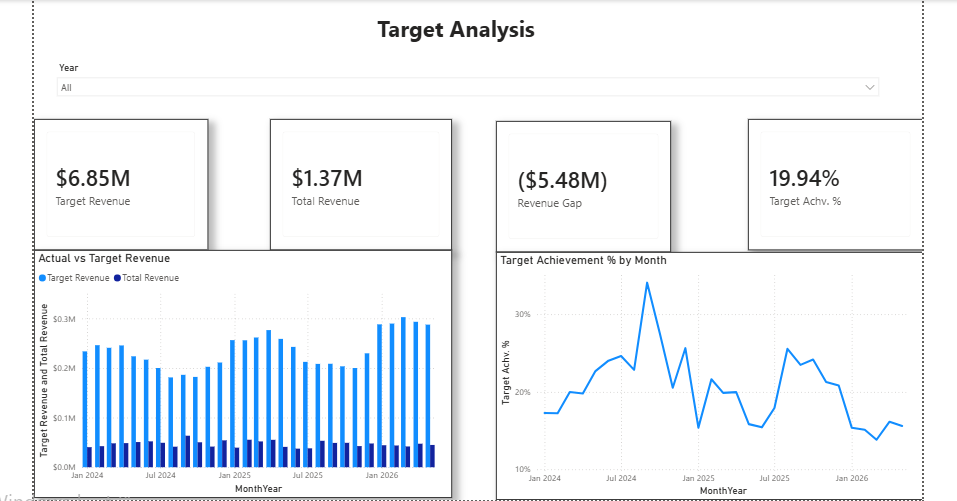

What the dashboard file says about the page in this screenshot:
{"tool":"powerbi","page":{"name":"Target Analysis","canvas":[1280,720],"ordinal":3},"visuals":[{"type":"slicer","fields":{"Values":["Calendar.Year"]},"box":[23,83.5,1203.8,72],"z":0},{"type":"cardVisual","fields":{"Data":["Measures Table.Target Revenue"]},"box":[0,171.4,250.6,188.6],"z":1},{"type":"cardVisual","fields":{"Data":["Measures Table.Total Revenue"]},"box":[339.8,171.4,262.1,188.6],"z":2},{"type":"cardVisual","fields":{"Data":["Measures Table.Revenue Gap"]},"box":[665.3,174.2,252,188.6],"z":3},{"type":"cardVisual","fields":{"Data":["Measures Table.Target Achv. %"]},"box":[1028.2,171.4,252,188.6],"z":4},{"type":"lineClusteredColumnComboChart","title":"Actual vs Target Revenue","fields":{"Category":["DimMonth.MonthYear"],"Y":["Measures Table.Target Revenue","Measures Table.Total Revenue"]},"box":[0,360,601.9,357.1],"z":5},{"type":"lineChart","title":"Target Achievement % by Month","fields":{"Category":["DimMonth.MonthYear"],"Y":["Measures Table.Target Achv. %"]},"box":[665.3,362.9,614.9,357.1],"z":6},{"type":"textbox","box":[296.6,13,622.1,70.6],"z":7}]}

Visuals, with their boxes on the page's 1280x720 design canvas (x1, y1, x2, y2). These are canvas units, not pixel positions in the 957x501 screenshot, which may show the page scaled, cropped or inside an application window:
slicer - Calendar.Year: detection(23, 84, 1227, 156)
cardVisual - Measures Table.Target Revenue: detection(0, 171, 251, 360)
cardVisual - Measures Table.Total Revenue: detection(340, 171, 602, 360)
cardVisual - Measures Table.Revenue Gap: detection(665, 174, 917, 363)
cardVisual - Measures Table.Target Achv. %: detection(1028, 171, 1280, 360)
"Actual vs Target Revenue" lineClusteredColumnComboChart: detection(0, 360, 602, 717)
"Target Achievement % by Month" lineChart: detection(665, 363, 1280, 720)
textbox: detection(297, 13, 919, 84)
